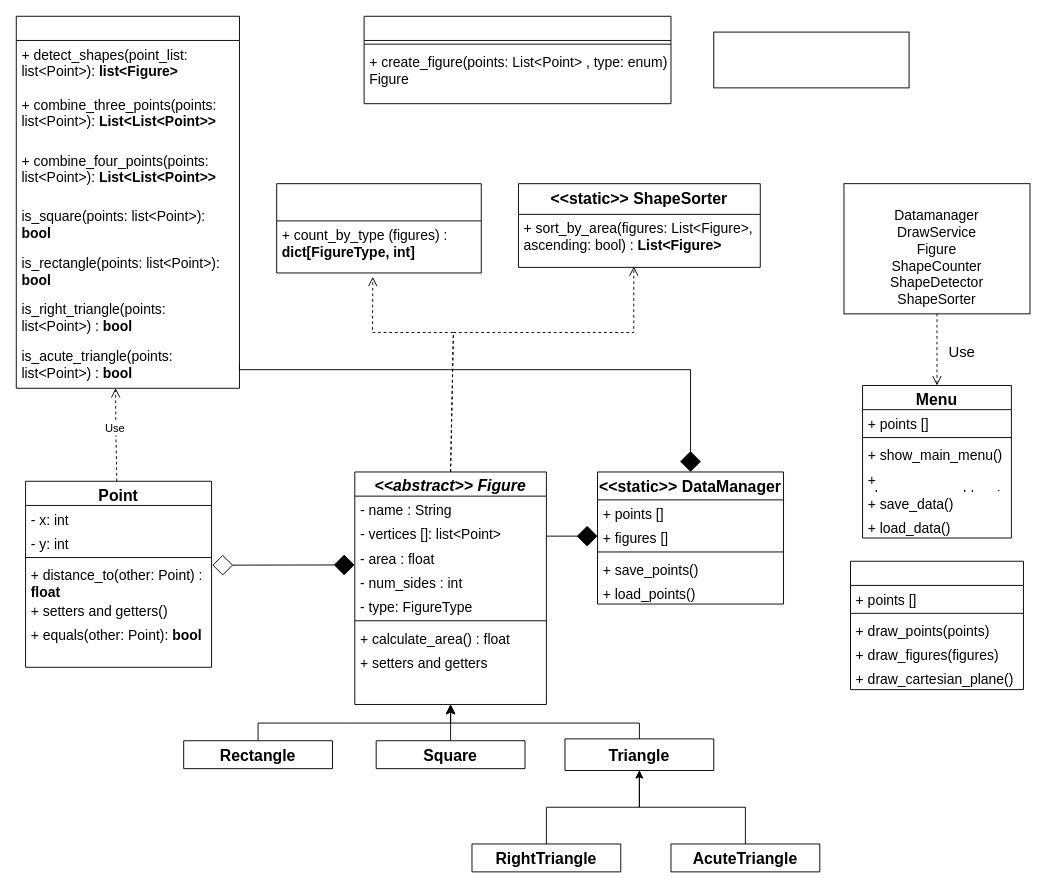
The diagram is 1046 pixels wide and 888 high, and some of its shapes have lost their labels. The shapes that lost their labels are listed below. From the top down, each one's box as (x1, y1, x2, y2) in pixels, then its label:
(363, 15, 671, 104): FigureFactory
(713, 31, 909, 88): FigureType: enum
(15, 15, 239, 388): <<static>> ShapeDetector
(276, 183, 481, 273): <<static>> ShapeCounter
(850, 560, 1023, 690): DrawService
